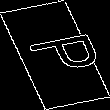P_E: (10, 30, 100, 80)
